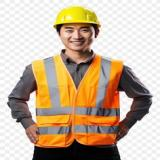Helmet: (52, 3, 102, 30)
Vest: (29, 51, 125, 146)
